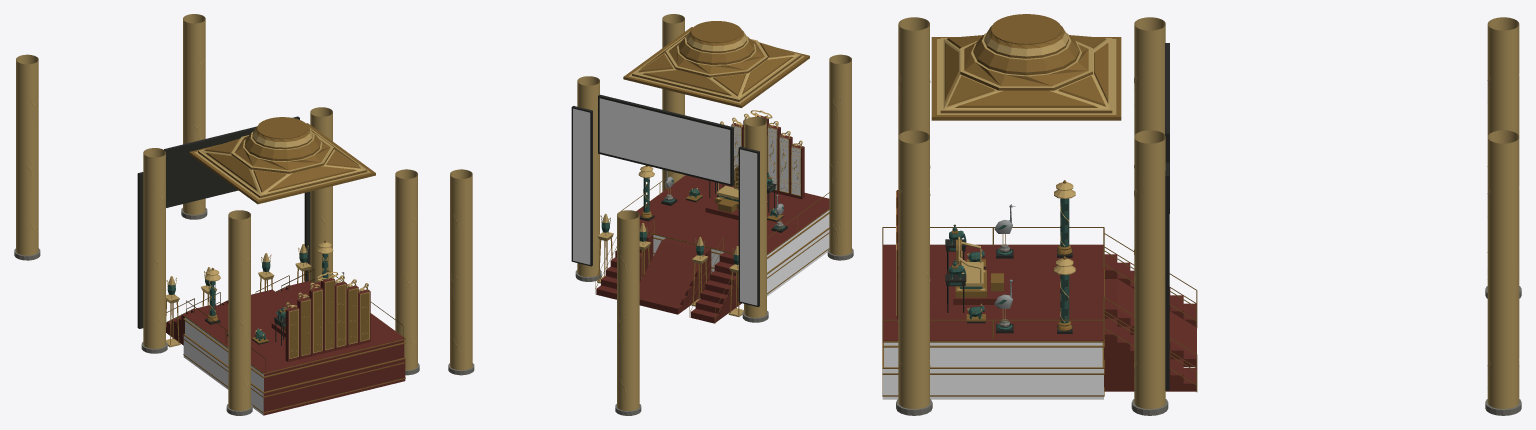
File: taihe-dais-front-24481a47ba8d.glb
3 renders of one model, left to right at view 1: azimuth 30°, elevation 25°; view 2: azimuth 150°, elevation 25°; view 3: azimuth 270°, elevation 25°, orthographic. The views are drawn at different scales.
Parts seen in each view (by area): view 1: merged_taihe_gold, merged_taihe_dark_gold, merged_taihe_lacquer, merged_taihe_dark_wood, merged_taihe_glyph_atlas, throne_blue_waist, merged_taihe_stone; view 2: merged_taihe_gold, merged_taihe_glyph_atlas, merged_taihe_lacquer, merged_taihe_dark_gold, merged_taihe_dark_wood, merged_taihe_stone, throne_blue_waist; view 3: merged_taihe_gold, merged_taihe_lacquer, merged_taihe_dark_gold, merged_taihe_glyph_atlas, merged_taihe_dark_wood, throne_blue_waist, merged_taihe_stone.
Part boxes in pixels (x1,y1,x2,y2): merged_taihe_gold: (16, 14, 417, 410); merged_taihe_dark_gold: (166, 117, 405, 413); merged_taihe_lacquer: (166, 272, 405, 415); merged_taihe_dark_wood: (137, 116, 342, 345); merged_taihe_glyph_atlas: (183, 317, 263, 415); throne_blue_waist: (167, 251, 328, 340); merged_taihe_stone: (14, 208, 419, 415); merged_taihe_gold: (450, 14, 851, 410); merged_taihe_glyph_atlas: (573, 98, 829, 305); merged_taihe_lacquer: (596, 115, 829, 323); merged_taihe_dark_gold: (595, 21, 829, 323); merged_taihe_dark_wood: (571, 94, 787, 307); merged_taihe_stone: (448, 194, 853, 415); throne_blue_waist: (601, 173, 785, 264); merged_taihe_gold: (896, 17, 1519, 409); merged_taihe_lacquer: (882, 190, 1196, 391); merged_taihe_dark_gold: (882, 14, 1197, 396); merged_taihe_glyph_atlas: (882, 342, 1103, 399); merged_taihe_dark_wood: (945, 43, 1169, 390); throne_blue_waist: (949, 198, 1069, 330); merged_taihe_stone: (896, 244, 1521, 415).
Bounding box in the file's own units: 9.63 × 11.27 × 20.25.
